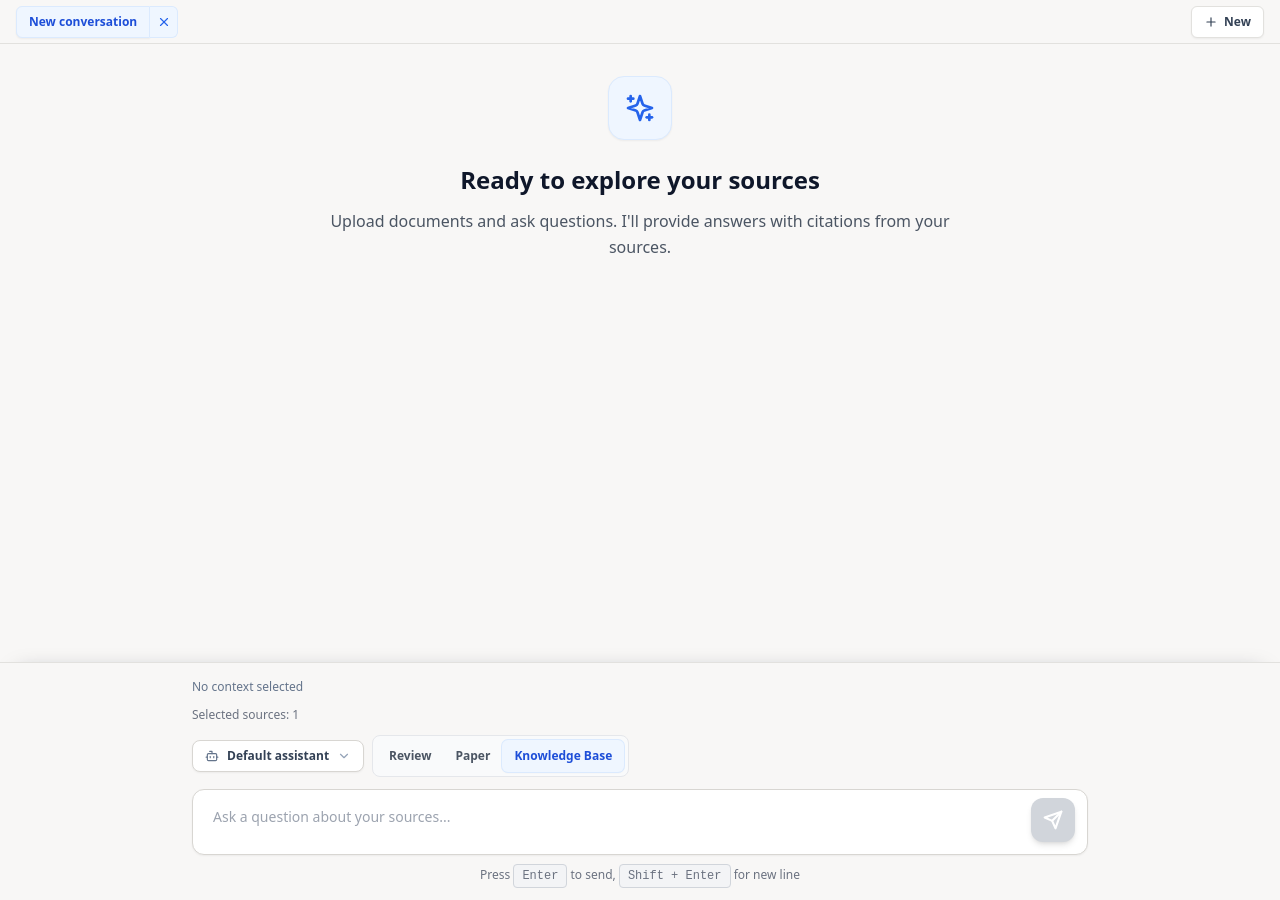
Test: ChatInterface workspace layout › replaces an optimistic assistant reply with a safe failure and local details
Type "Question" into the text box with placeholder "Ask a question about your sources...".
click(640, 818); type("Question")  # box [193,790,1087,846]
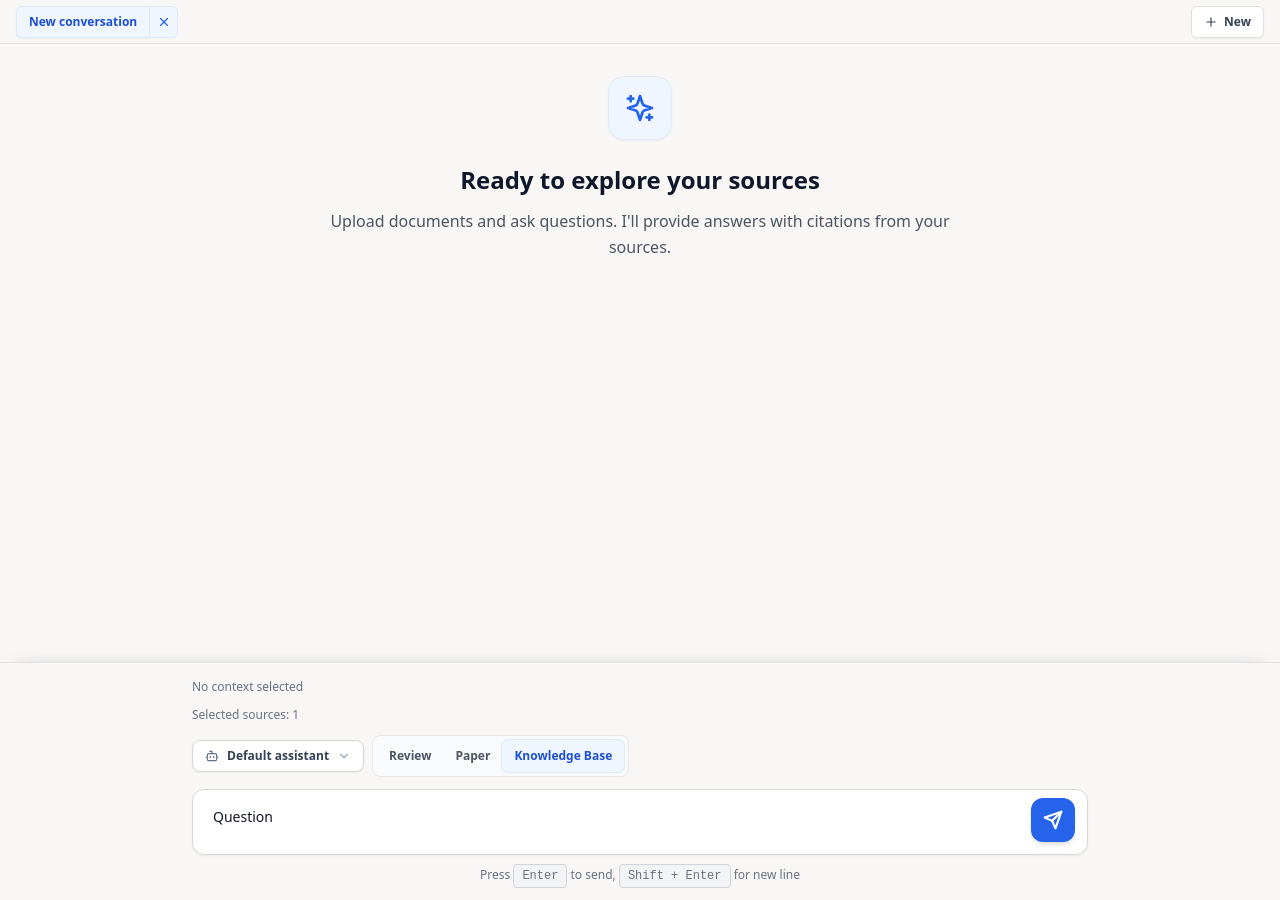
Click the button named "Send message".
click(1053, 820)  # box [1031,798,1075,842]
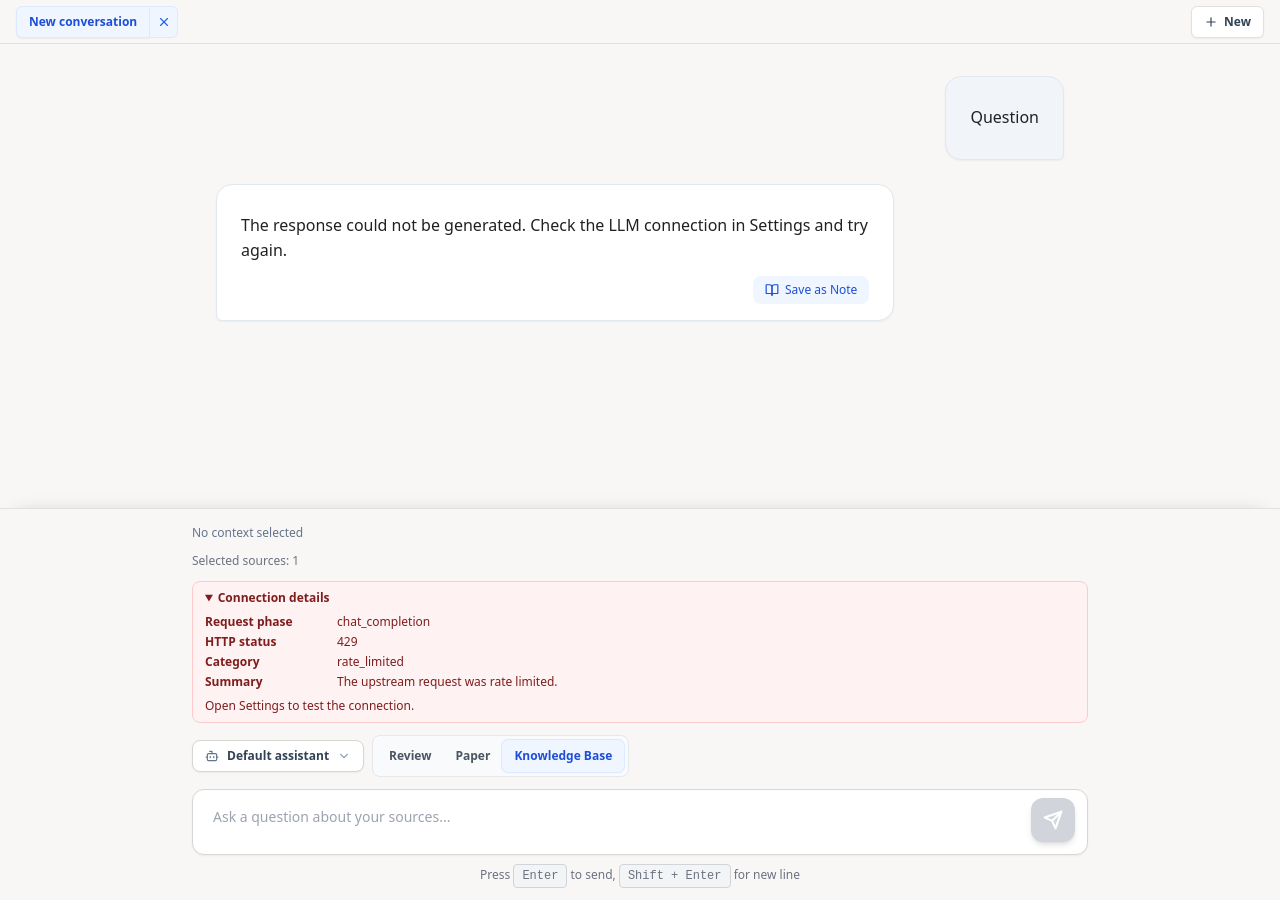
Result: the text "The response could not be generated. Check the LLM connection in Settings and try again." is shown at [241,214,868,261]
Result: the heading "Connection details" is shown at [218,589,330,606]
